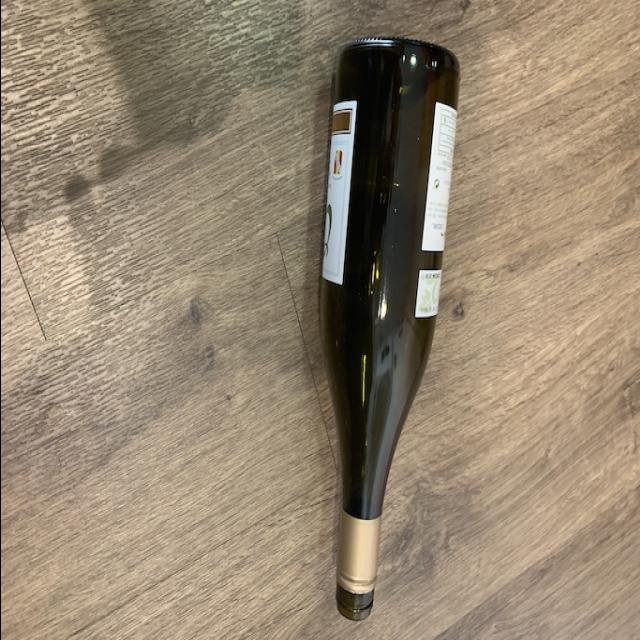Glass Bottle: (313, 35, 465, 623)
